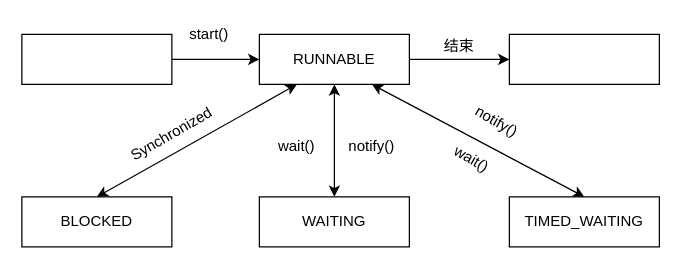
Image size: 681x269. Some labels were removed from this diagram. The shapes that lost their labels are listed below. From the top down, each one's centre as x and y in pixels, then its label:
At (x=96, y=58): "NEW".
At (x=583, y=58): "TERMINATED".
